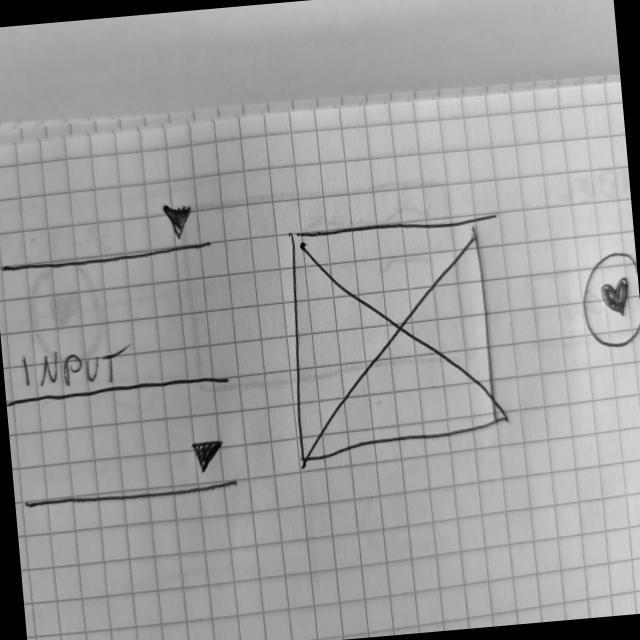icon-button: (576, 249, 640, 353)
image: (279, 209, 504, 466)
input: (3, 330, 234, 412)
select: (1, 194, 215, 277), (18, 434, 245, 512)
